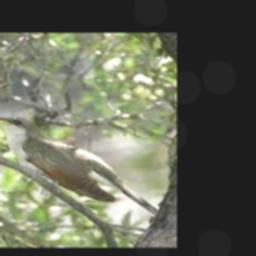Cuckoo: (0, 116, 159, 215)
